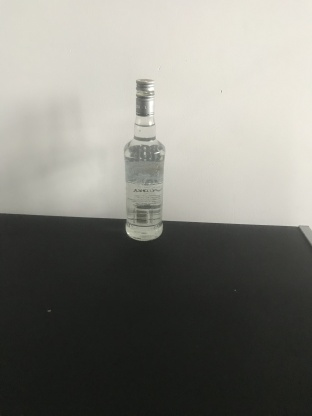nakretka: (134, 76, 156, 117)
